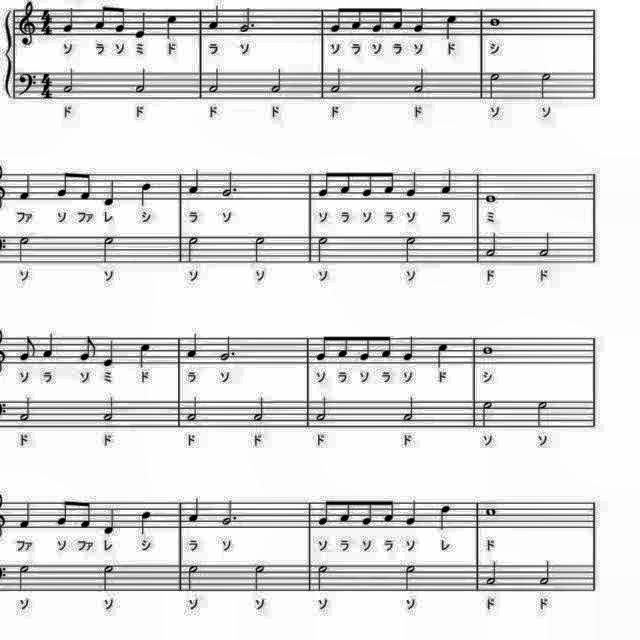Bass-clef: (15, 68, 37, 98)
Eighth-note: (77, 332, 99, 364), (326, 1, 346, 35), (17, 334, 38, 364), (55, 496, 73, 530), (76, 168, 94, 202), (55, 167, 73, 200), (315, 332, 333, 364), (90, 0, 108, 32), (356, 332, 374, 363), (78, 498, 94, 532), (359, 166, 375, 200), (318, 494, 334, 528), (318, 169, 334, 203), (368, 4, 384, 36), (359, 498, 375, 530), (112, 2, 128, 34), (349, 0, 365, 32), (338, 497, 354, 528), (390, 2, 406, 32), (339, 166, 355, 196), (378, 331, 394, 361), (336, 332, 352, 361), (382, 168, 398, 196), (381, 498, 397, 526)
Full-note: (480, 344, 498, 358), (488, 14, 504, 28), (484, 504, 500, 518), (482, 192, 500, 204)
Half-dot: (236, 4, 258, 36), (217, 332, 239, 363), (219, 166, 239, 198), (218, 497, 238, 528)
Half-note: (100, 394, 120, 426), (410, 66, 430, 98), (132, 64, 152, 96), (536, 70, 554, 104), (14, 561, 32, 593), (399, 394, 417, 426), (14, 233, 32, 265), (485, 71, 503, 103), (98, 561, 116, 593), (269, 64, 287, 96), (100, 234, 118, 266), (403, 232, 421, 264), (536, 228, 554, 260), (479, 398, 497, 429), (533, 398, 551, 429), (404, 561, 421, 593), (183, 233, 200, 265), (183, 561, 200, 593), (184, 395, 202, 425), (15, 395, 33, 425), (485, 228, 503, 258), (485, 557, 503, 587), (536, 557, 554, 587), (206, 67, 224, 96), (327, 67, 345, 96), (254, 562, 270, 594), (62, 64, 78, 96), (251, 234, 267, 266), (316, 561, 332, 593), (316, 232, 332, 264), (314, 396, 331, 424), (250, 396, 266, 424)
Quarter-note: (437, 502, 455, 534), (15, 170, 33, 202), (101, 338, 119, 370), (101, 178, 119, 210), (17, 500, 35, 532), (101, 506, 119, 538), (132, 8, 150, 40), (39, 331, 57, 362), (61, 3, 79, 34), (404, 498, 421, 530), (136, 339, 154, 368), (185, 496, 202, 526), (183, 331, 200, 361), (185, 167, 202, 197), (439, 166, 456, 196), (435, 340, 453, 368), (163, 13, 180, 42), (412, 4, 428, 34), (405, 169, 421, 199), (402, 335, 418, 365), (444, 12, 461, 40), (205, 4, 222, 32), (138, 181, 154, 209), (138, 508, 154, 536)
Treble-clef: (16, 0, 36, 46)
